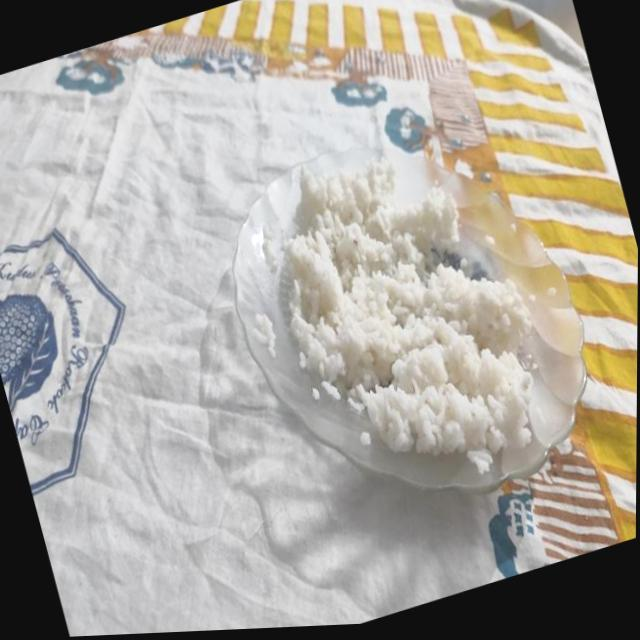nasi_putih: (284, 162, 532, 472)
